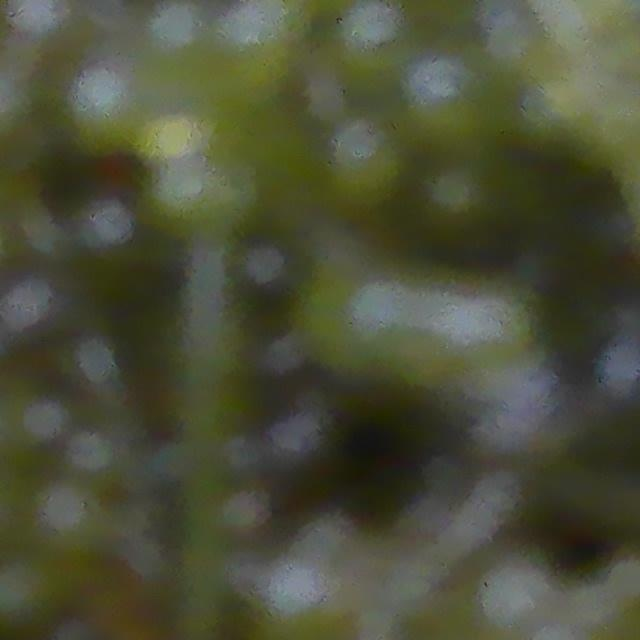SeaGrape: (398, 47, 495, 153), (323, 115, 410, 207), (61, 63, 146, 155), (28, 476, 111, 560), (479, 552, 555, 633), (421, 157, 497, 234), (0, 552, 67, 636), (334, 0, 411, 66)
